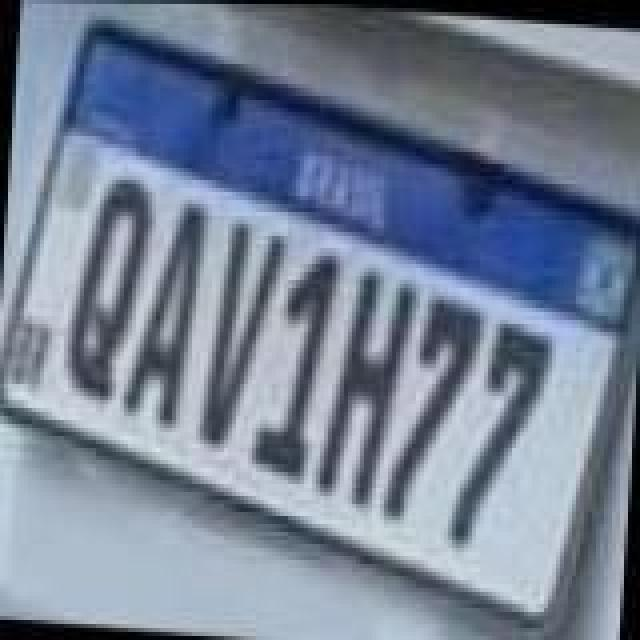1: (248, 246, 344, 482)
7: (446, 316, 562, 552), (378, 294, 486, 526)
A: (124, 198, 212, 430)
H: (312, 262, 424, 514)
Q: (64, 174, 160, 406)
V: (196, 222, 292, 454)
